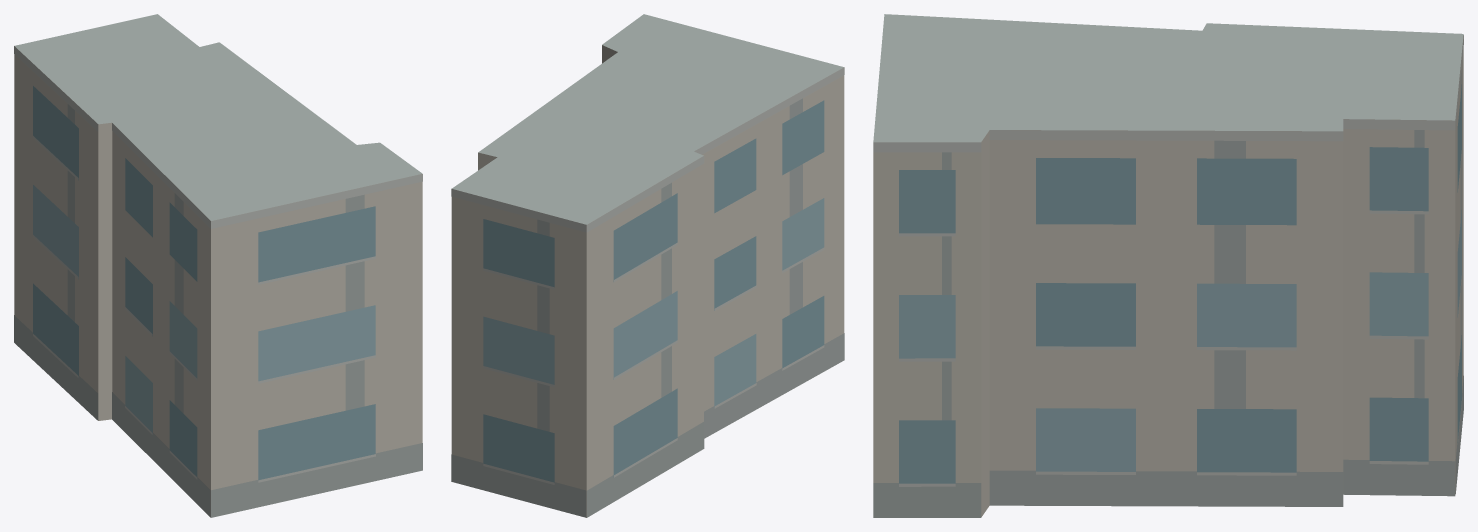
The model's file is survey-upis-33034901.glb.
3 views of the same model, side by side, from view 1: azimuth 30°, elevation 25°; view 2: azimuth 150°, elevation 25°; view 3: azimuth 270°, elevation 25° (orthographic). The views are drawn at different scales.
Parts seen in each view (by area): view 1: survey-upis-33034901.tmp; view 2: survey-upis-33034901.tmp; view 3: survey-upis-33034901.tmp.
Part boxes in pixels (<box>): survey-upis-33034901.tmp: <box>14,14,422,517</box>; survey-upis-33034901.tmp: <box>451,14,844,517</box>; survey-upis-33034901.tmp: <box>873,14,1463,517</box>.
Size of the model in its own units: 6.71 by 9.15 by 13.05.
